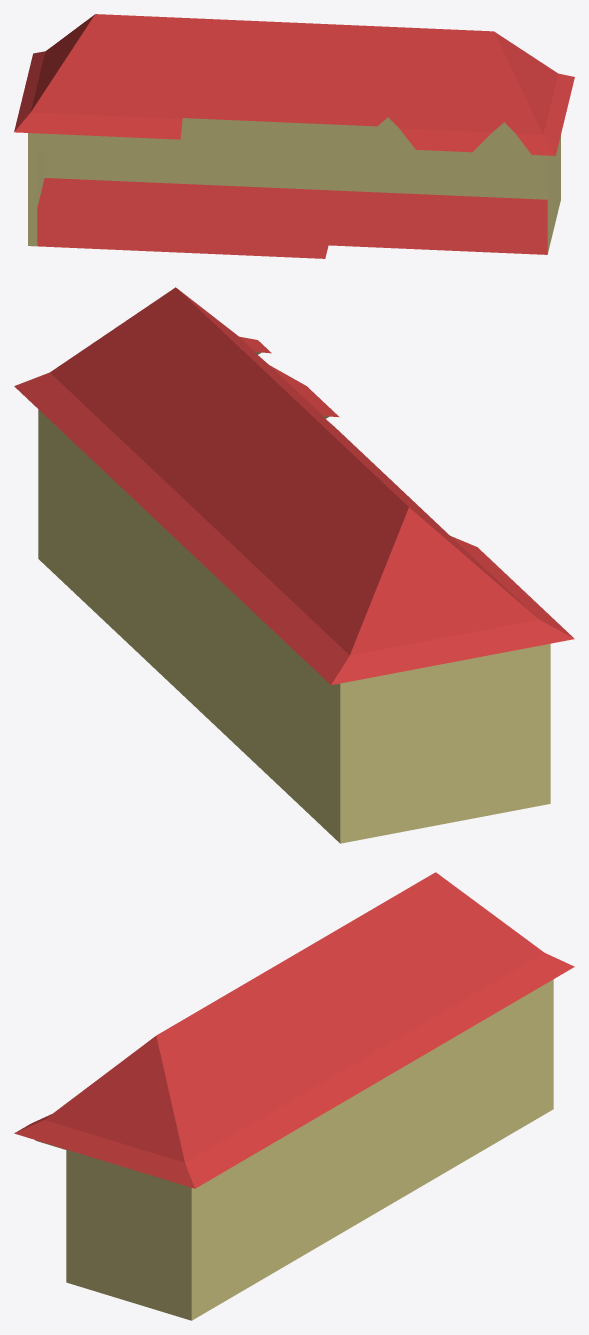
3 views of the same model, one above another, from view 1: azimuth 30°, elevation 25°; view 2: azimuth 150°, elevation 25°; view 3: azimuth 270°, elevation 25° (orthographic). The views are drawn at different scales.
Bounding box in the file's own units: 42.83 × 36.61 × 17.12.
